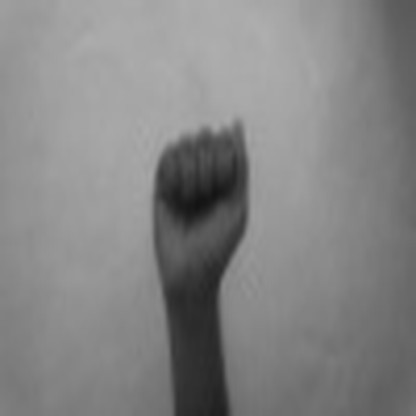a: (147, 105, 256, 288)
